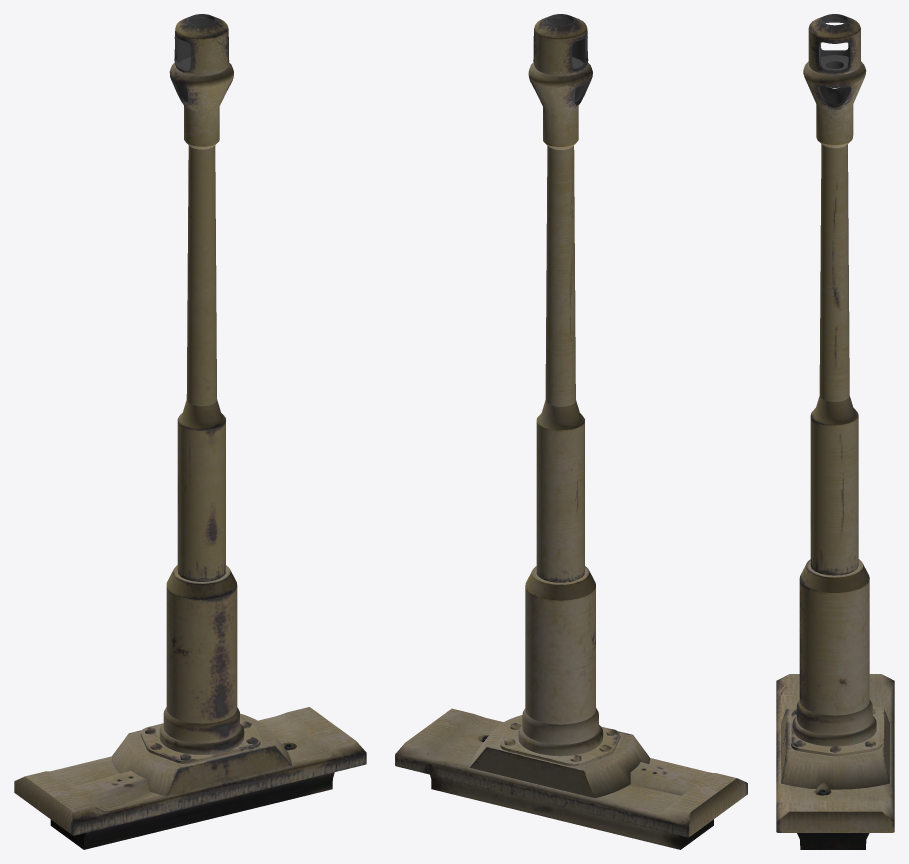
File: Gun_01.glb
3 views of the same model, side by side, from view 1: azimuth 30°, elevation 25°; view 2: azimuth 150°, elevation 25°; view 3: azimuth 270°, elevation 25° (orthographic).
Parts seen in each view (by area): view 1: set_0_group_0; view 2: set_0_group_0; view 3: set_0_group_0.
Boxes of the visible parts, left/top/right/bottom form: set_0_group_0: left=14, top=14, right=366, bottom=849; set_0_group_0: left=395, top=14, right=747, bottom=849; set_0_group_0: left=776, top=14, right=894, bottom=849.
Bounding box in the file's own units: 1.59 × 4.06 × 0.5606.
Materials: 1 (1 with a texture image).
